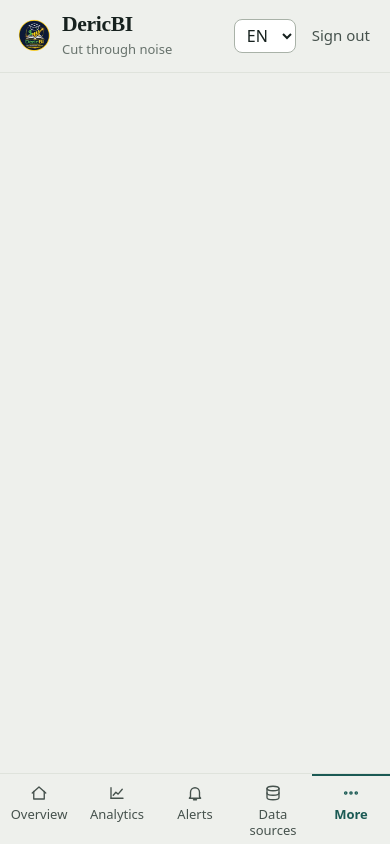
Test case: phone tab bar › closes when a page is chosen, and More is marked while you are on one of its pages
What coordinates should you click on to do the following:
click the button "More"
I would click on:
 (351, 802)
Its box is [312, 774, 389, 830].
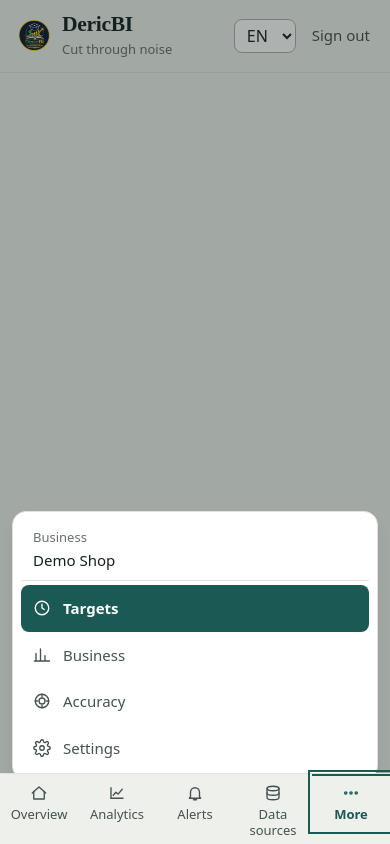
What coordinates should you click on to do the following:
click the link "Settings"
I would click on:
 (77, 748)
Its box is [33, 738, 120, 758].
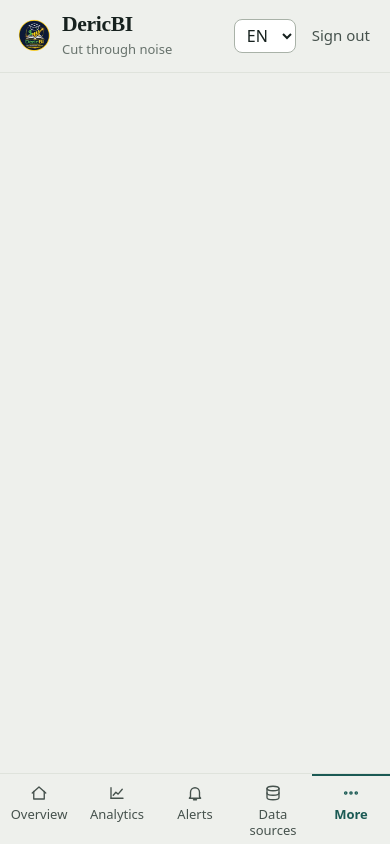
expect the element with id "more-menu" is gone: met
